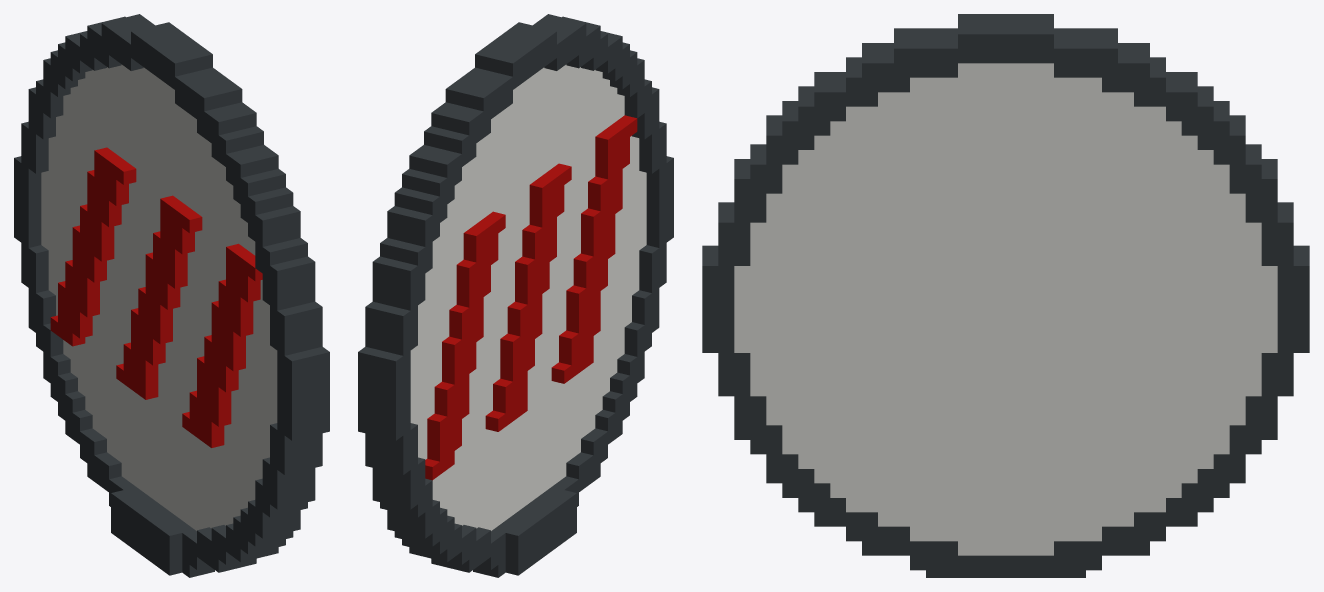
Rendered from street_sweeper_rear_door.glb.
The picture shows the model from 3 angles, left to right: view 1: azimuth 30°, elevation 25°; view 2: azimuth 150°, elevation 25°; view 3: azimuth 270°, elevation 25°; orthographic projection. The views are drawn at different scales.
Visible parts, largest first — view 1: body:compound; view 2: body:compound; view 3: body:compound.
Boxes of the visible parts, left/top/right/bottom form: body:compound: left=14, top=14, right=329, bottom=577; body:compound: left=358, top=14, right=673, bottom=577; body:compound: left=702, top=14, right=1309, bottom=577.
Bounding box in the file's own units: 0.125 × 1.19 × 1.19.
